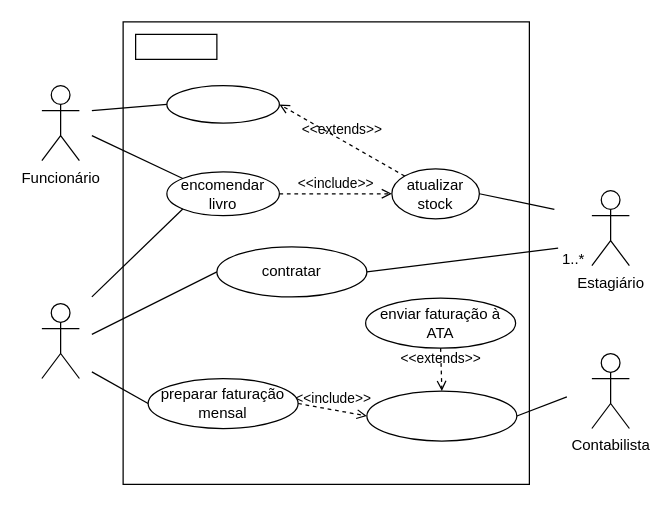
Some shapes in this 671 by 506 pixel diagram are drawn without their labels. Here are the shapes that lost their labels. From the top down, the centre of each, then its label:
the point at 175,46: Biblioteca
the point at 222,103: fazer venda
the point at 60,340: Gestor
the point at 441,415: enviar/receber faturação
